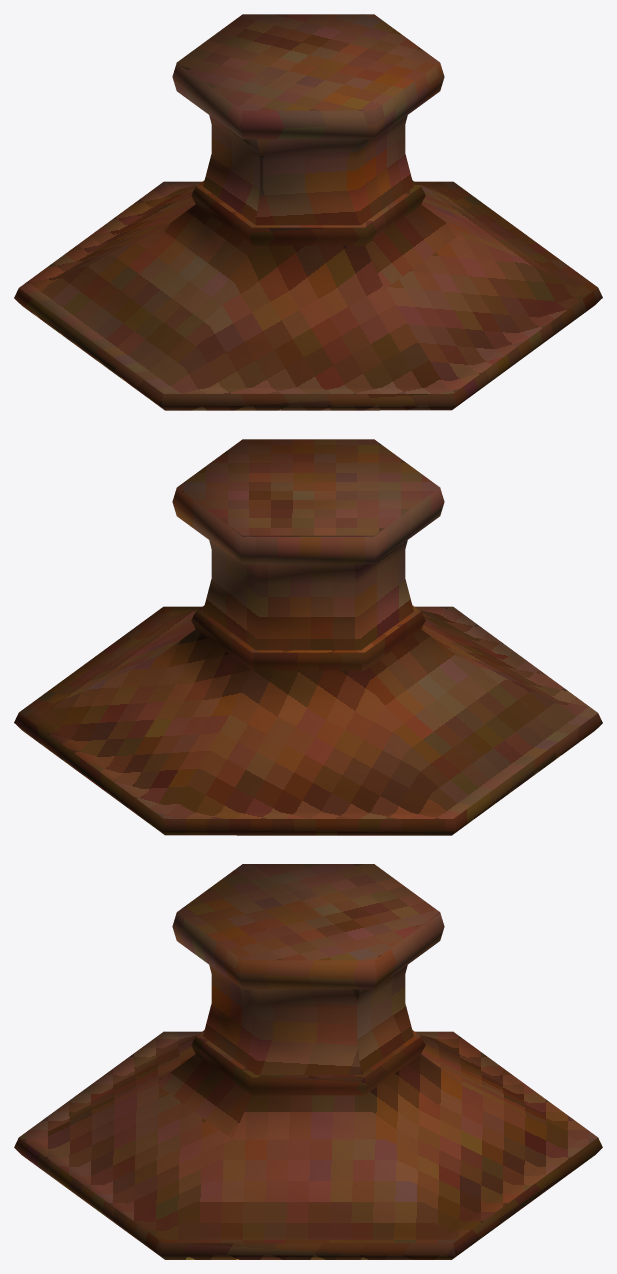
File: lamp.glb
3 renders of one model, top to bottom at view 1: azimuth 30°, elevation 25°; view 2: azimuth 150°, elevation 25°; view 3: azimuth 270°, elevation 25°, orthographic.
Parts seen in each view (by area): view 1: Circle; view 2: Circle; view 3: Circle.
Part boxes in pixels (bbox=[...]): Circle: bbox=[14, 14, 602, 410]; Circle: bbox=[14, 439, 602, 835]; Circle: bbox=[14, 864, 602, 1259].
Bounding box in the file's own units: 3.59 × 1.89 × 4.14.
Materials: 1 (1 with a texture image).
